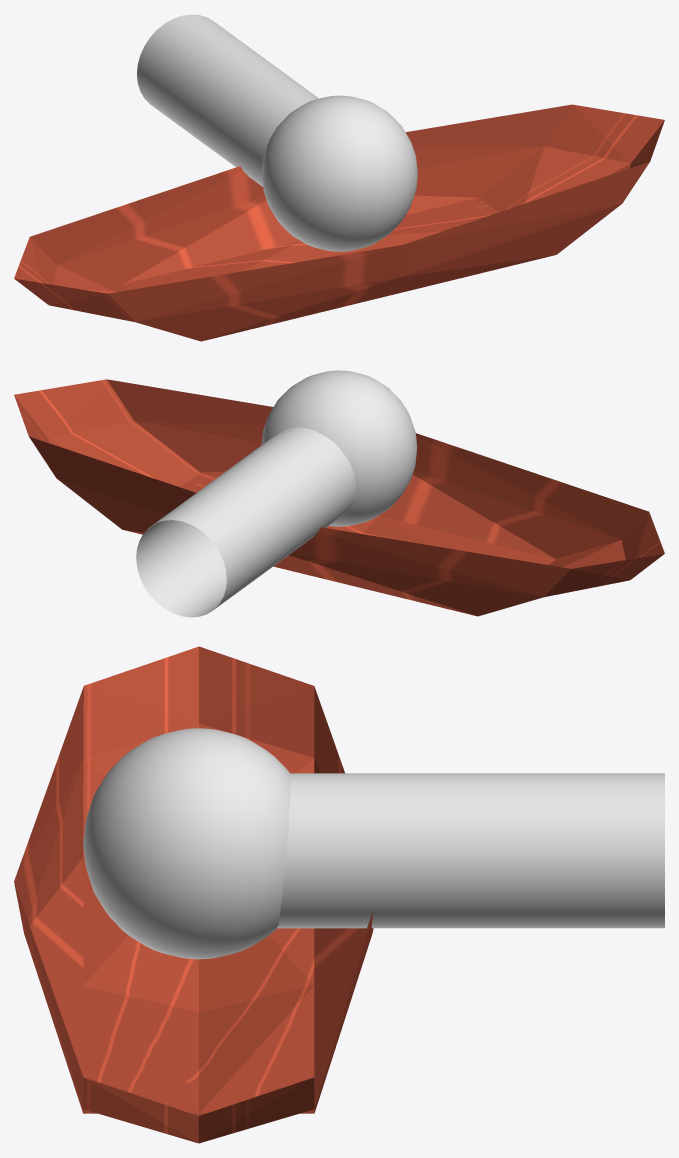
The model's file is Player.gltf.
3 views of the same model, one above another, from view 1: azimuth 30°, elevation 25°; view 2: azimuth 150°, elevation 25°; view 3: azimuth 270°, elevation 25° (orthographic). The views are drawn at different scales.
Parts seen in each view (by area): view 1: ship, Cannon; view 2: ship, Cannon; view 3: Cannon, ship.
Boxes of the visible parts, left/top/right/bottom form: ship: left=14, top=104, right=664, bottom=341; Cannon: left=137, top=14, right=417, bottom=251; ship: left=14, top=379, right=664, bottom=616; Cannon: left=136, top=370, right=417, bottom=617; Cannon: left=83, top=728, right=664, bottom=959; ship: left=14, top=646, right=373, bottom=1143.
Bounding box in the file's own units: 0.9612 × 0.2611 × 0.5631.
Materials: 2 (1 with a texture image).
